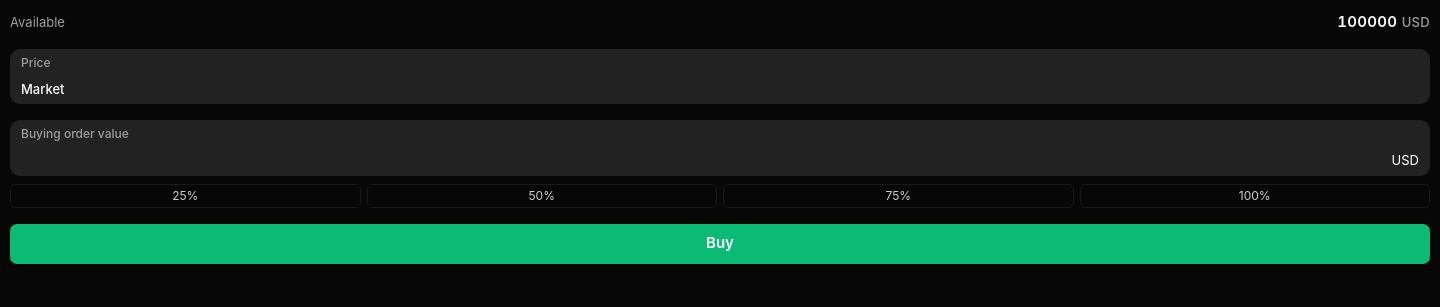
MarketOrder — book health gate › estimates what the order buys, because the ticket computed nothing before
Step 1. Type "100" into the number field named "orderValue" → point(697, 161), box [11,147,1383,174]
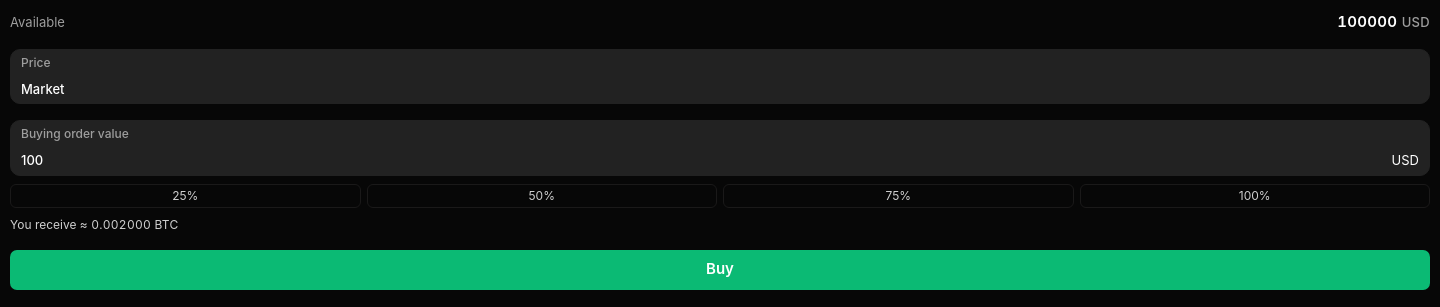
Now the element with test id "market-estimate-buy" shows "≈", box [80,216,178,232]
Now the element with test id "market-estimate-buy" shows "BTC", box [80,216,178,232]
